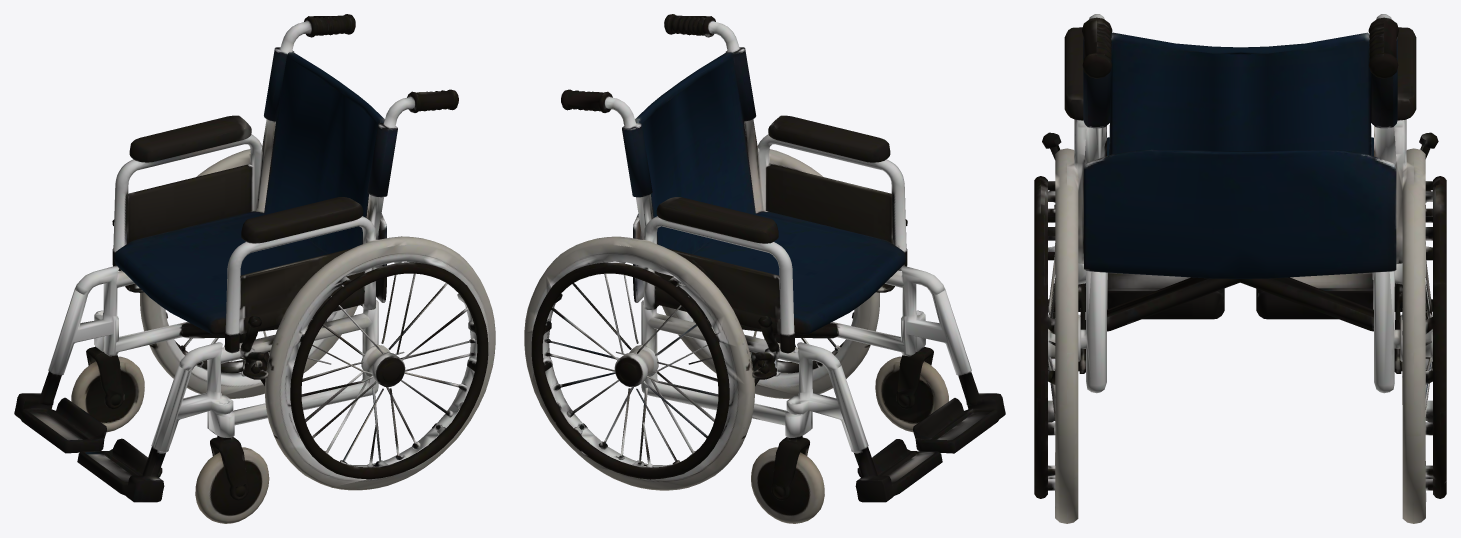
The model's file is Medical__a_wheelchair_63e61bed_v2.cluster.glb.
The picture shows the model from 3 angles, left to right: view 1: azimuth 30°, elevation 25°; view 2: azimuth 150°, elevation 25°; view 3: azimuth 270°, elevation 25°; orthographic projection. The views are drawn at different scales.
Visible parts, largest first — view 1: material; view 2: material; view 3: material.
Boxes of the visible parts, x1=… form: material: x1=14, y1=14, x2=495, y2=523; material: x1=524, y1=14, x2=1005, y2=523; material: x1=1034, y1=14, x2=1446, y2=523.
Size of the model in its own units: 1.9 by 1.89 by 1.35.
Materials: 1 (1 with a texture image).
